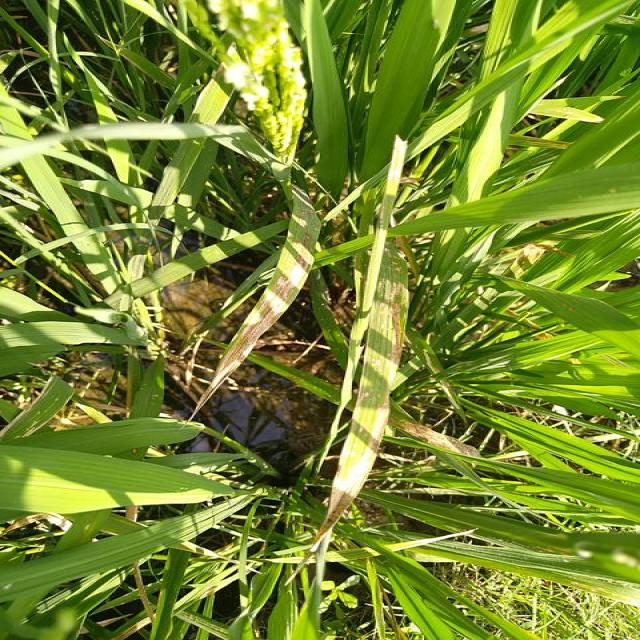Leaf Streak: (188, 187, 321, 422), (315, 236, 409, 550)
